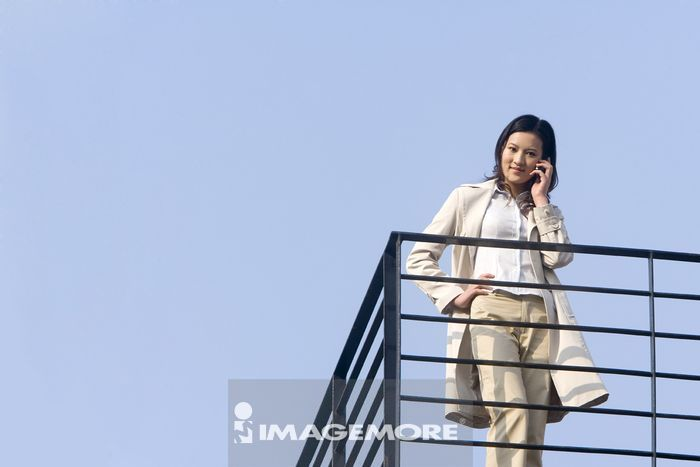talk: (500, 141, 552, 203)
